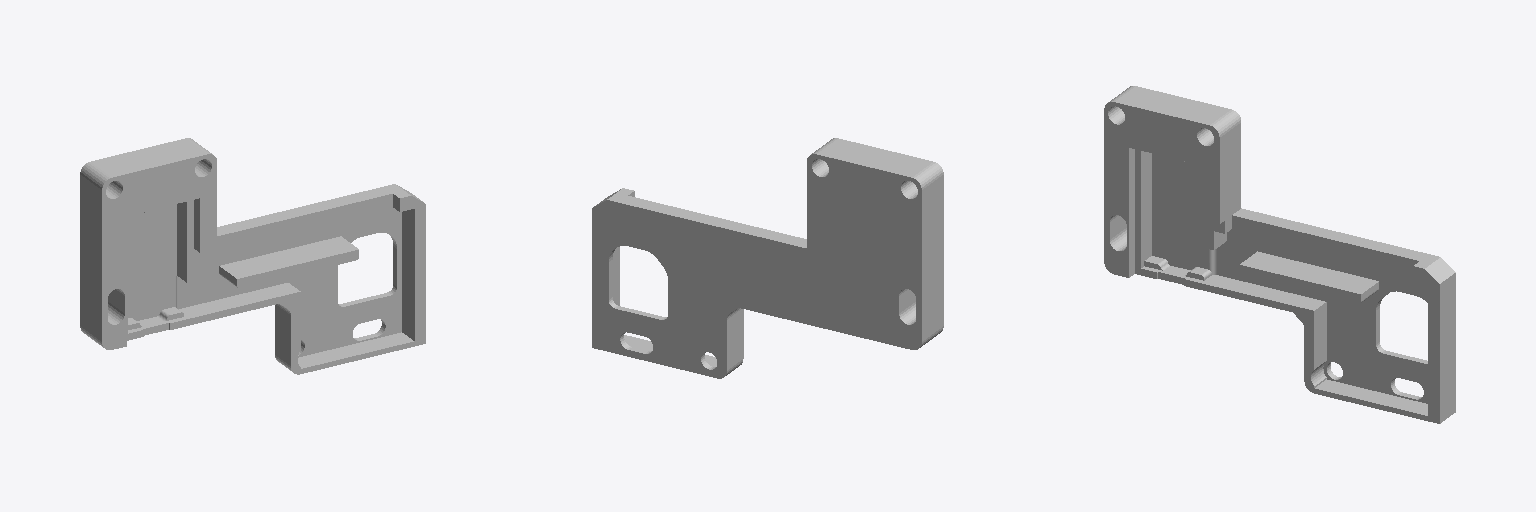
The model's file is Case.obj.
The picture shows the model from 3 angles: view 1: azimuth 30°, elevation 25°; view 2: azimuth 150°, elevation 25°; view 3: azimuth 330°, elevation 25°; orthographic projection.
Visible parts, largest first — view 1: Body1; view 2: Body1; view 3: Body1.
Part boxes in pixels (bbox=[...]): Body1: bbox=[80, 138, 425, 374]; Body1: bbox=[592, 138, 943, 378]; Body1: bbox=[1104, 86, 1455, 423].
Bounding box in the file's own units: 100 × 72 × 11.5.